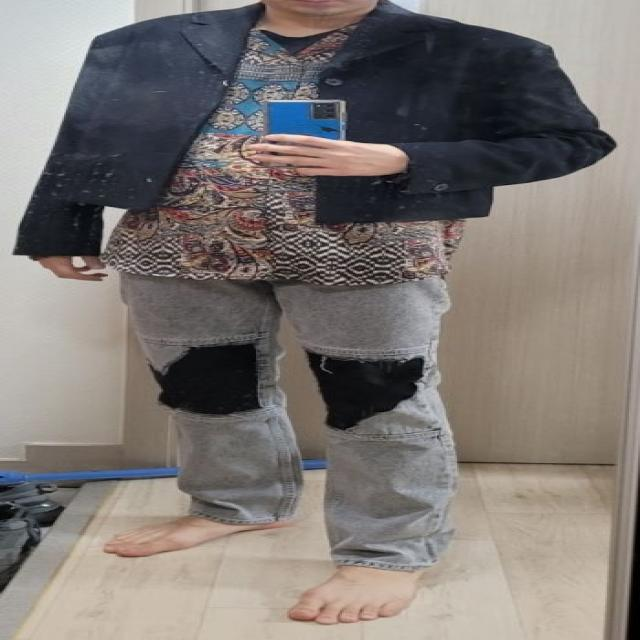blazer: (16, 5, 610, 256)
denimpants: (113, 220, 454, 568)
